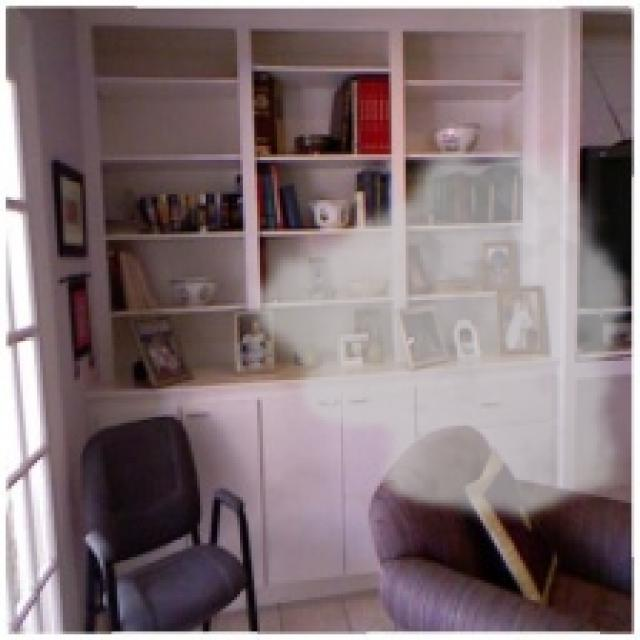smoke: (240, 134, 634, 526)
